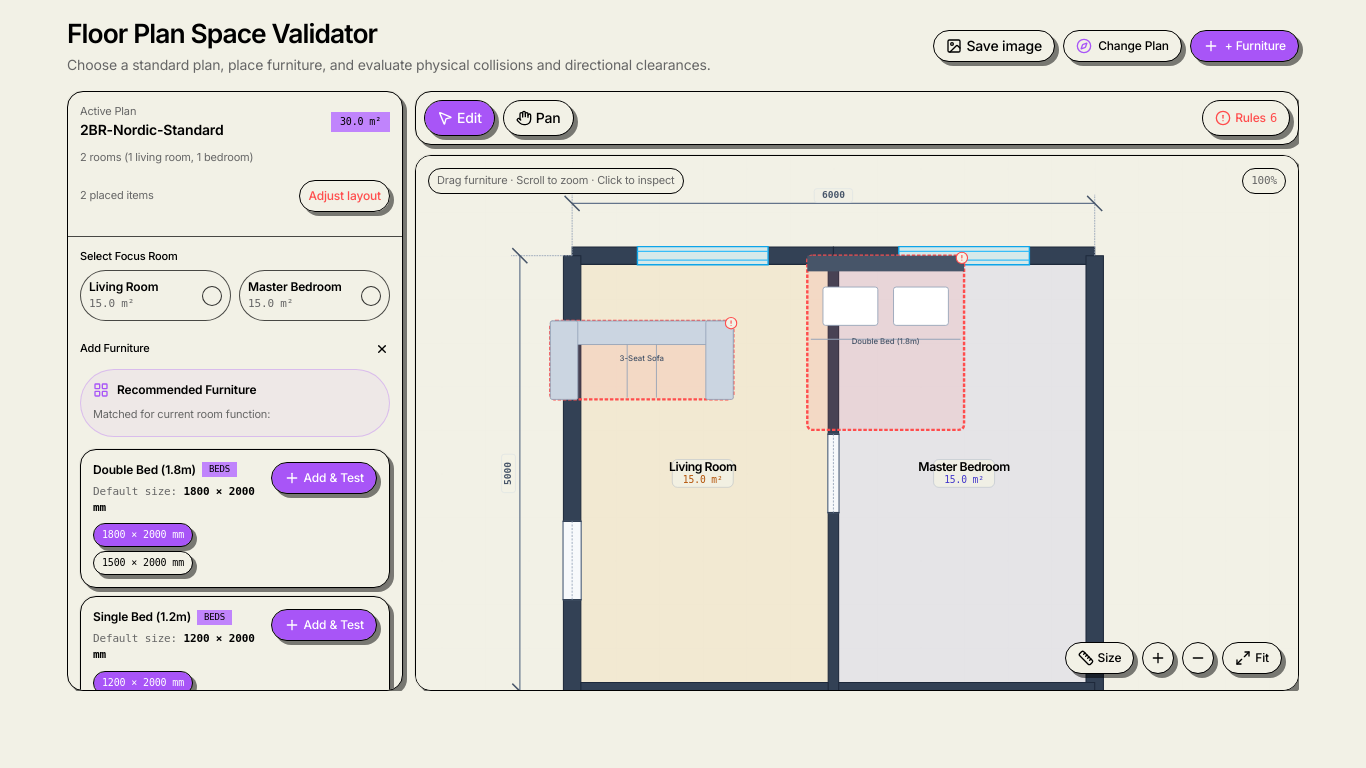
Scenario: FloorPlanShell Integration (Streamlined MVP Architecture) › opens full furniture catalog dialog and adds furniture
This screenshot has width=1366, height=768.
Click the button with test id "open-furniture-catalog-btn": click(1244, 46) [1190,30,1299,62]
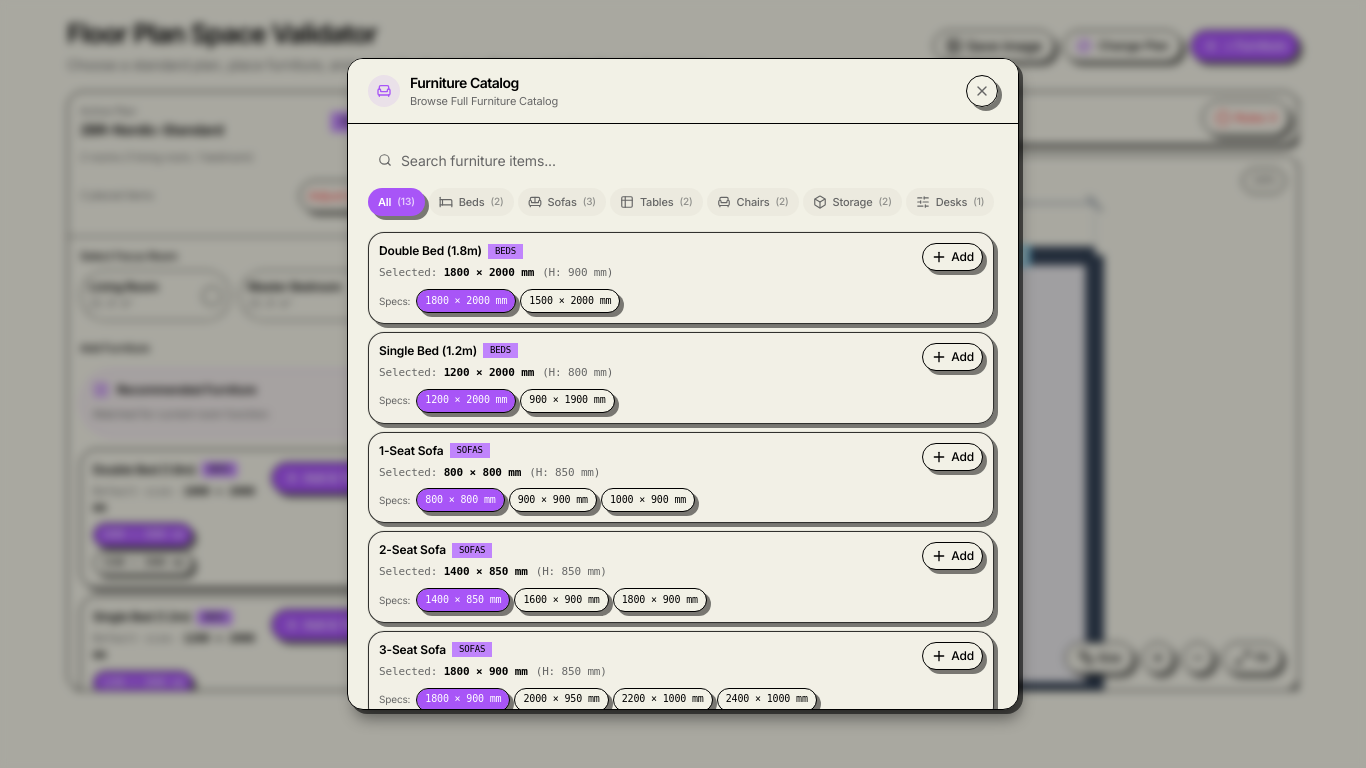
Now the dialog with test id "furniture-catalog-dialog" is shown, box [347,58,1019,710]
Now the button with test id "^add-furniture-item-" is shown
Click the button with test id "^add-furniture-item-": click(953, 257) [922,243,983,271]
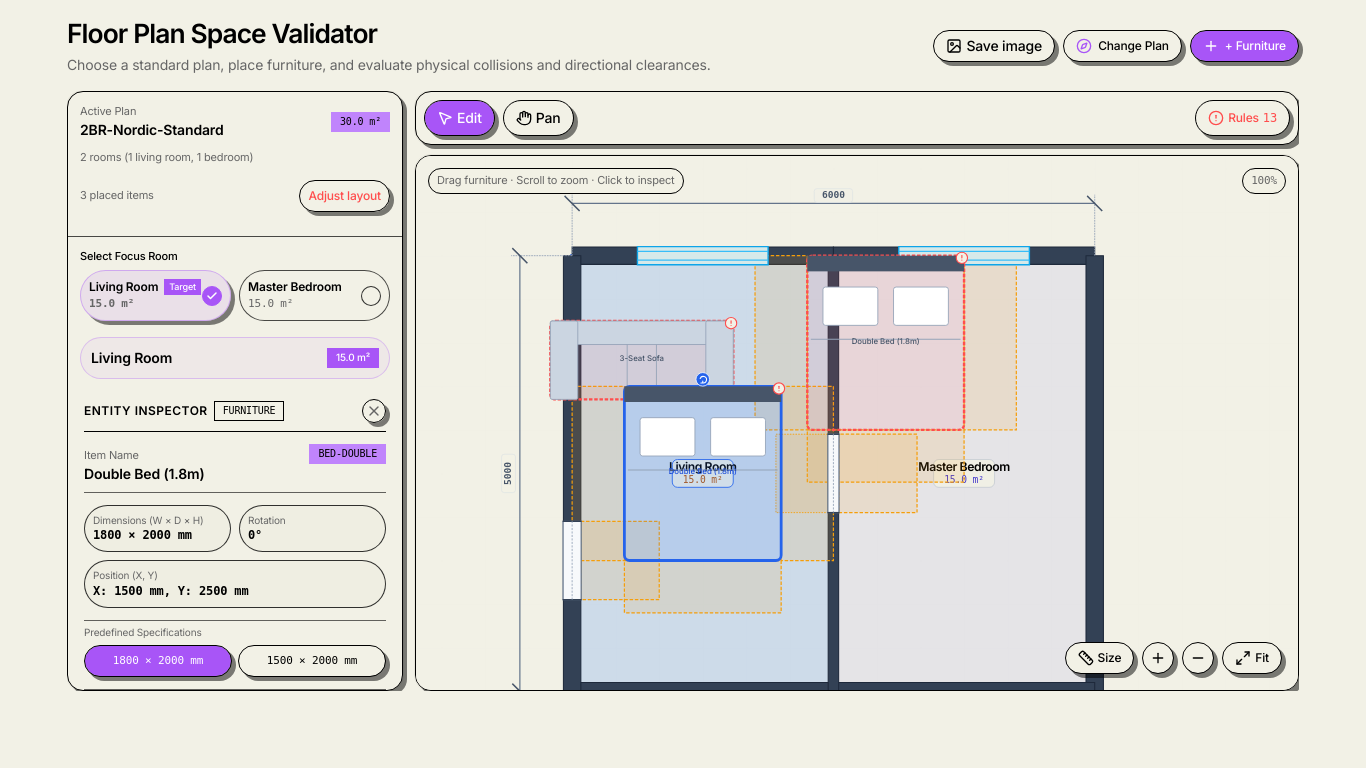
Now the dialog with test id "furniture-catalog-dialog" is gone
